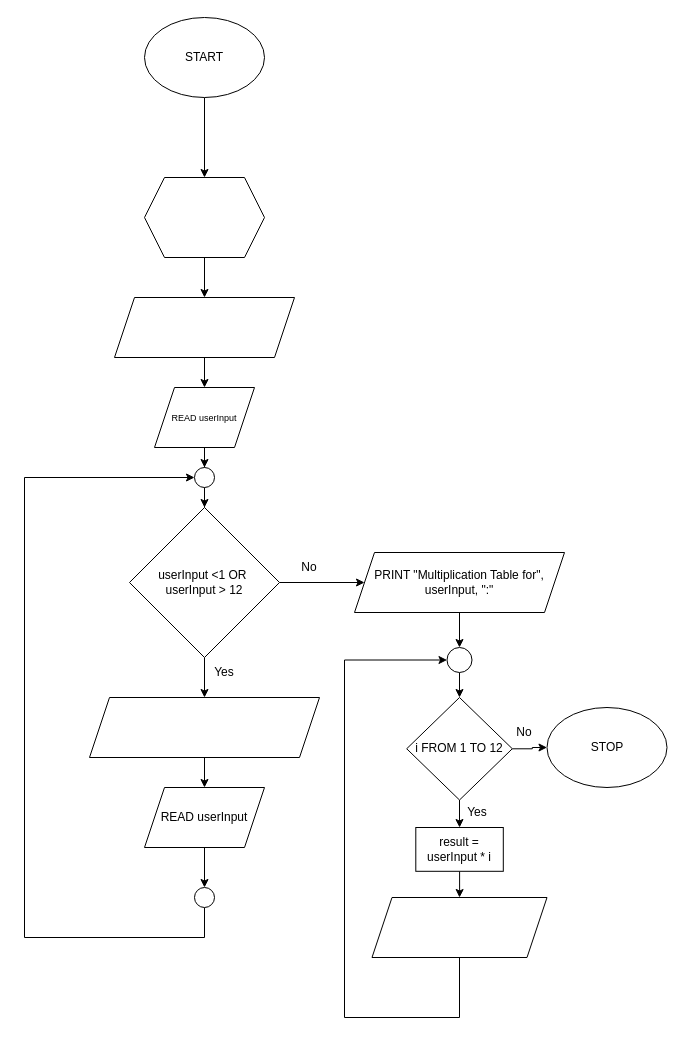
Some shapes in this 685 by 1043 pixel diagram are drawn without their labels. Each missing label, with the centre of its shape:
DECLARE userInput, result as INTEGER: point (204, 217)
PRINT "Enter a number from 1 to 12:: point (204, 327)
PRINT "Invalid Input. Please enter an INTEGER number from 1 to 12:": point (204, 727)
PRINT userInput, "*', i, "=", result: point (459, 927)
